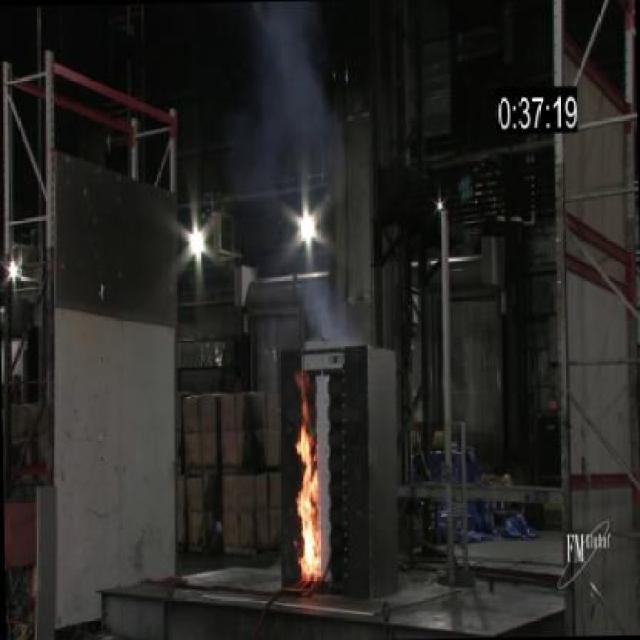fire: (221, 0, 354, 203), (303, 272, 369, 351)
smoke: (288, 369, 328, 588)
